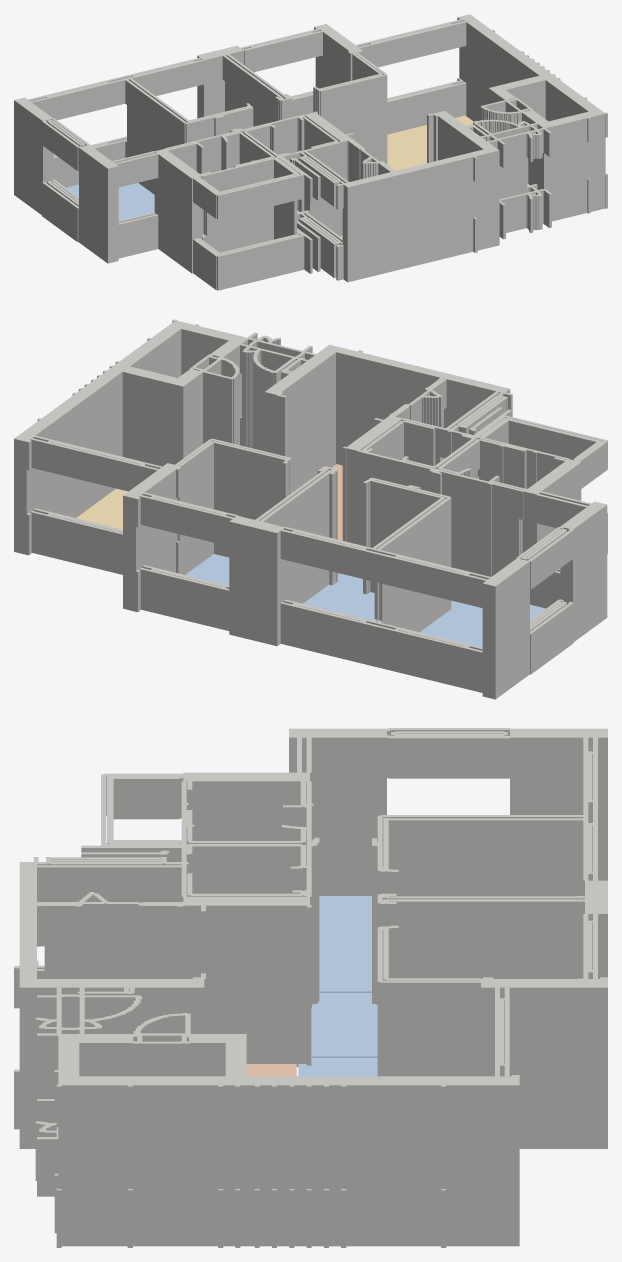
3 renders of one model, top to bottom at view 1: azimuth 30°, elevation 25°; view 2: azimuth 150°, elevation 25°; view 3: azimuth 270°, elevation 25°, orthographic. The views are drawn at different scales.
Visible parts, largest first — view 1: walls, room:living:6, room:bedroom:9; view 2: walls, room:bedroom:0, room:bedroom:9, room:living:6, room:bedroom:8; view 3: walls, room:bedroom:9, room:bedroom:0, room:bedroom:8.
Boxes of the visible parts, <box> form: walls: <box>14,14,607,290</box>; room:living:6: <box>387,115,473,170</box>; room:bedroom:9: <box>66,183,154,220</box>; walls: <box>14,319,607,699</box>; room:bedroom:0: <box>303,573,374,620</box>; room:bedroom:9: <box>420,600,545,647</box>; room:living:6: <box>76,488,128,529</box>; room:bedroom:8: <box>185,554,339,585</box>; walls: <box>14,728,607,1247</box>; room:bedroom:9: <box>319,896,582,992</box>; room:bedroom:0: <box>312,978,582,1057</box>; room:bedroom:8: <box>298,1057,377,1076</box>.
Bounding box in the file's own units: 13.36 × 2.8 × 9.35.
